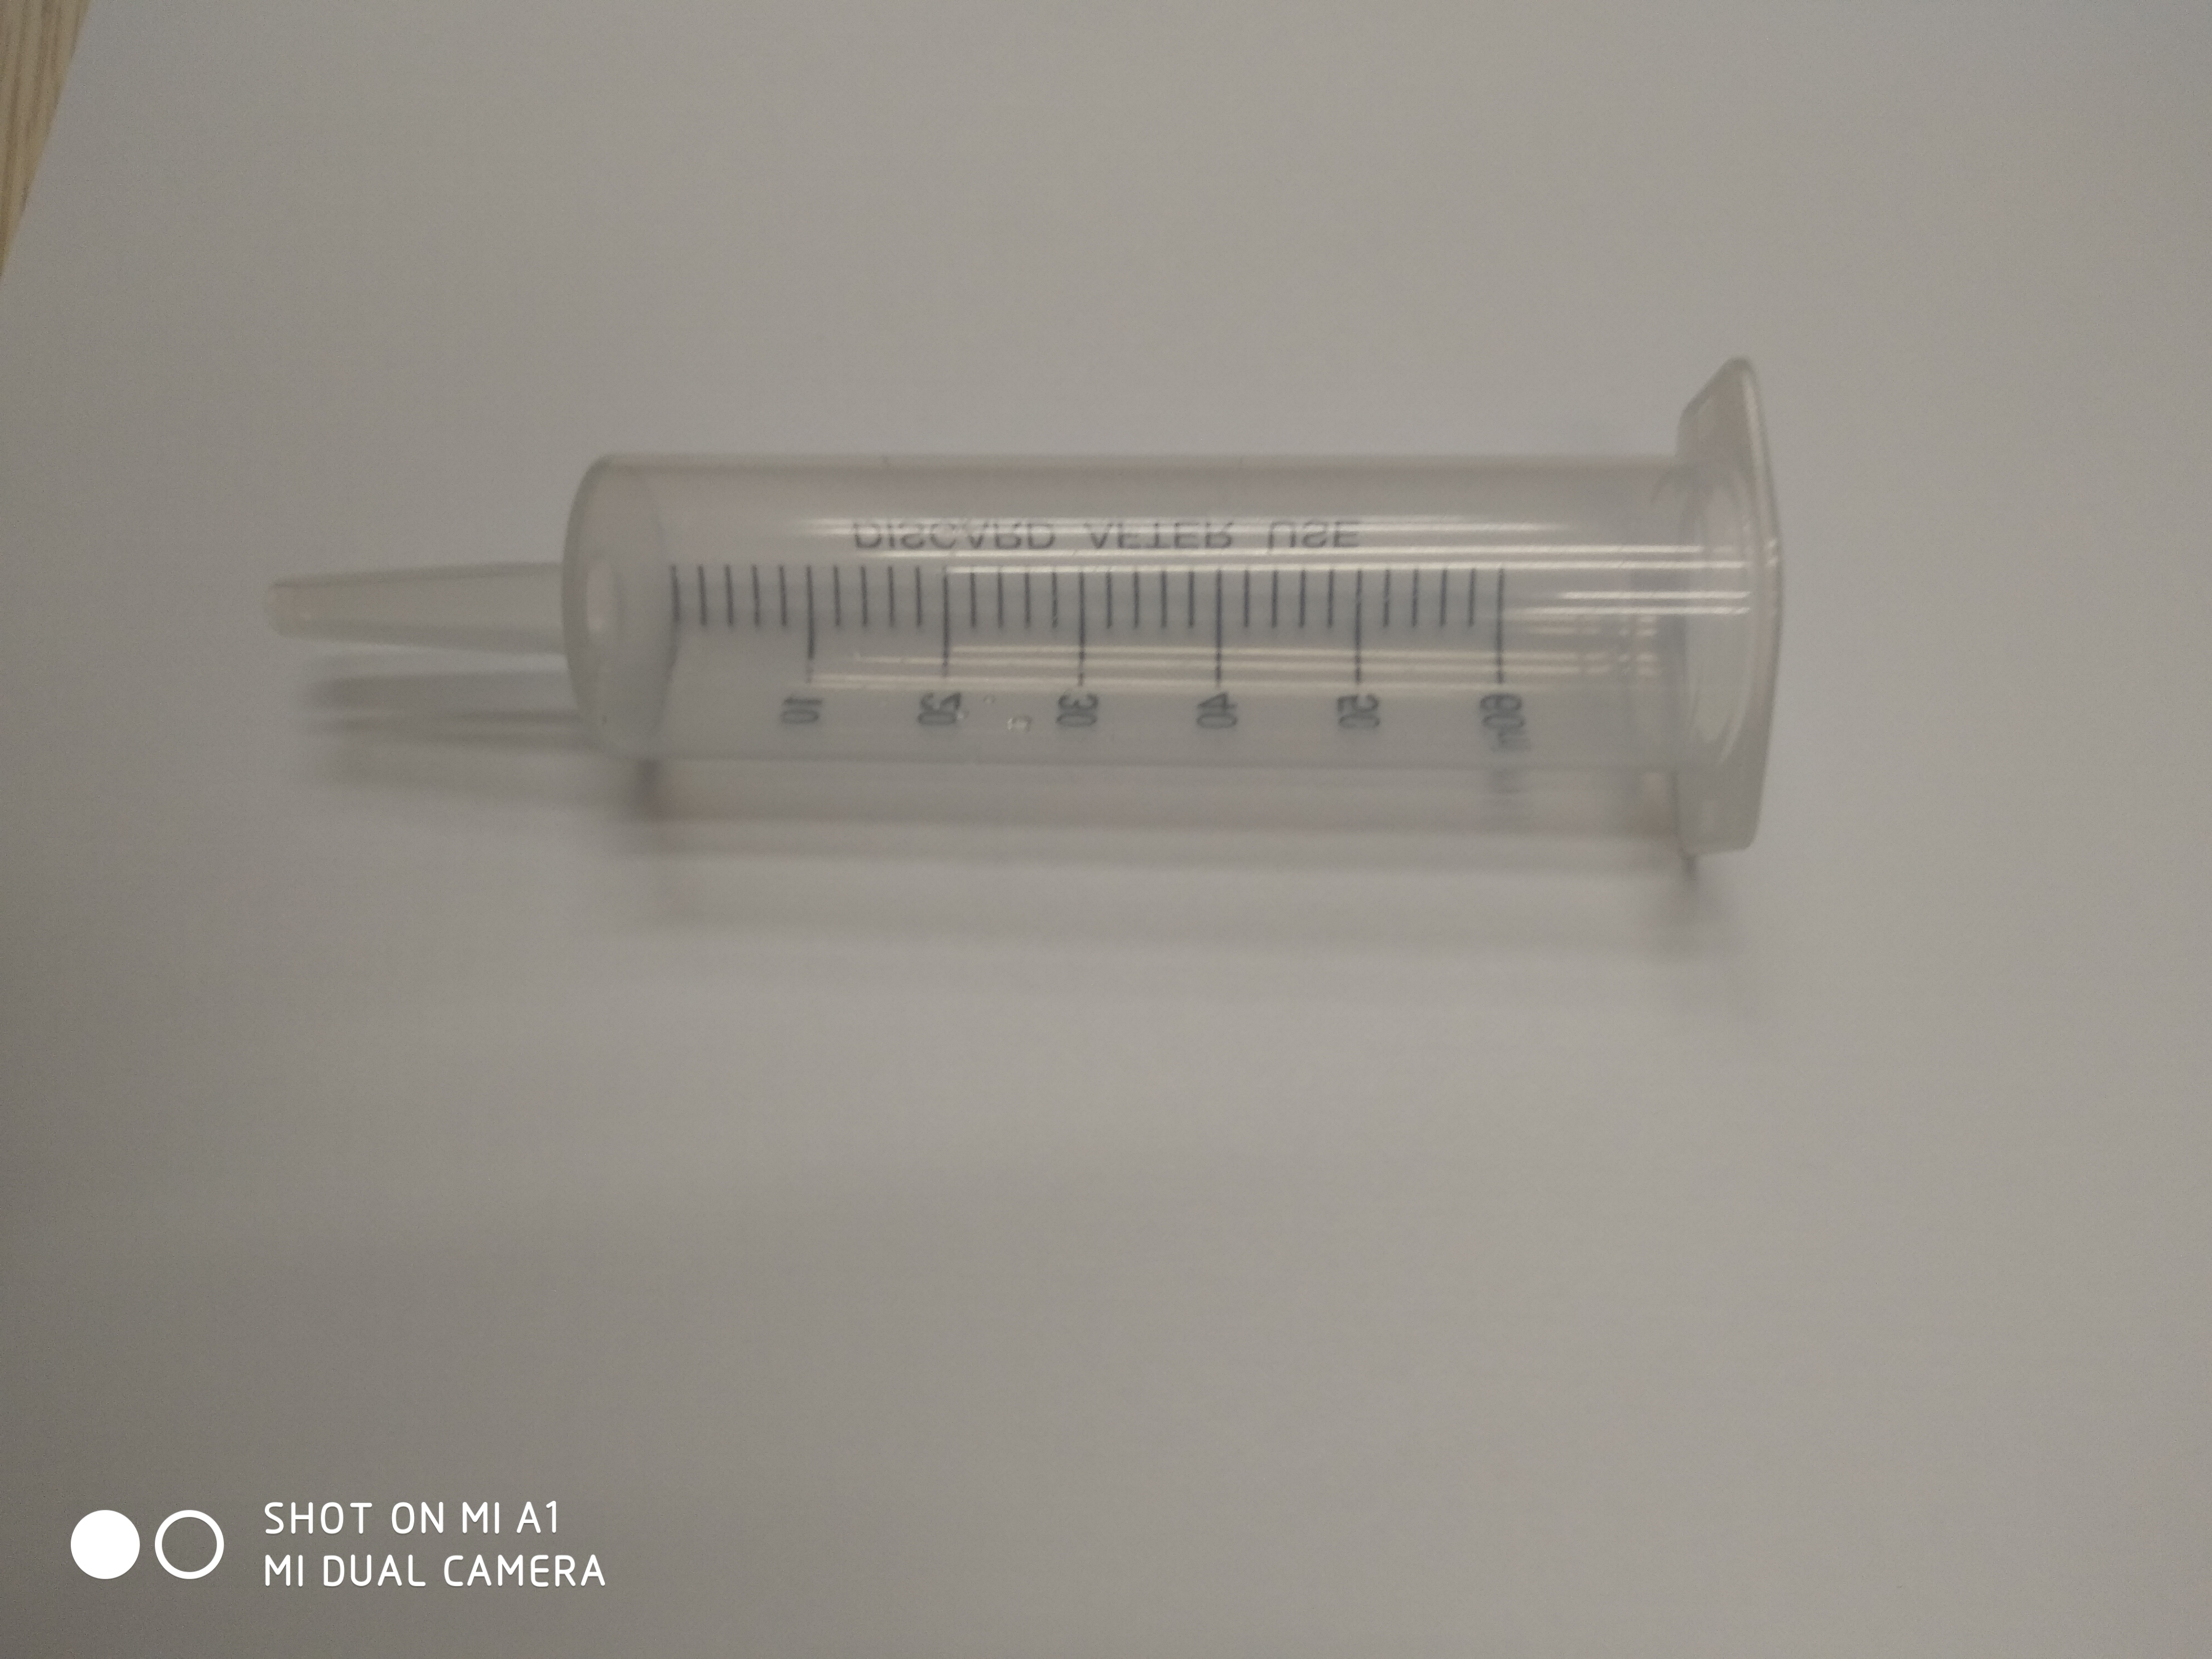syringe: (261, 352, 1831, 870)
